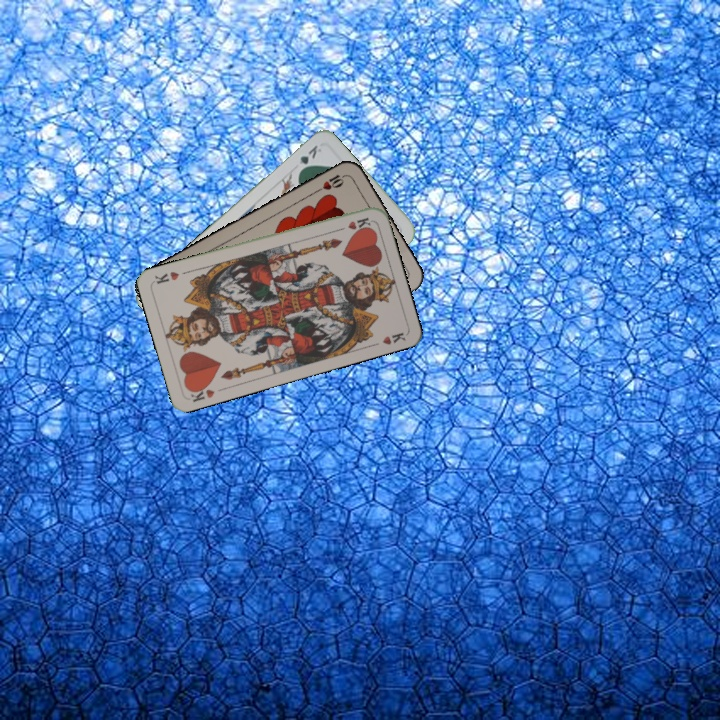GK: (294, 141, 324, 176)
H10: (312, 170, 350, 195)
HK: (333, 214, 374, 234), (185, 380, 217, 405)
